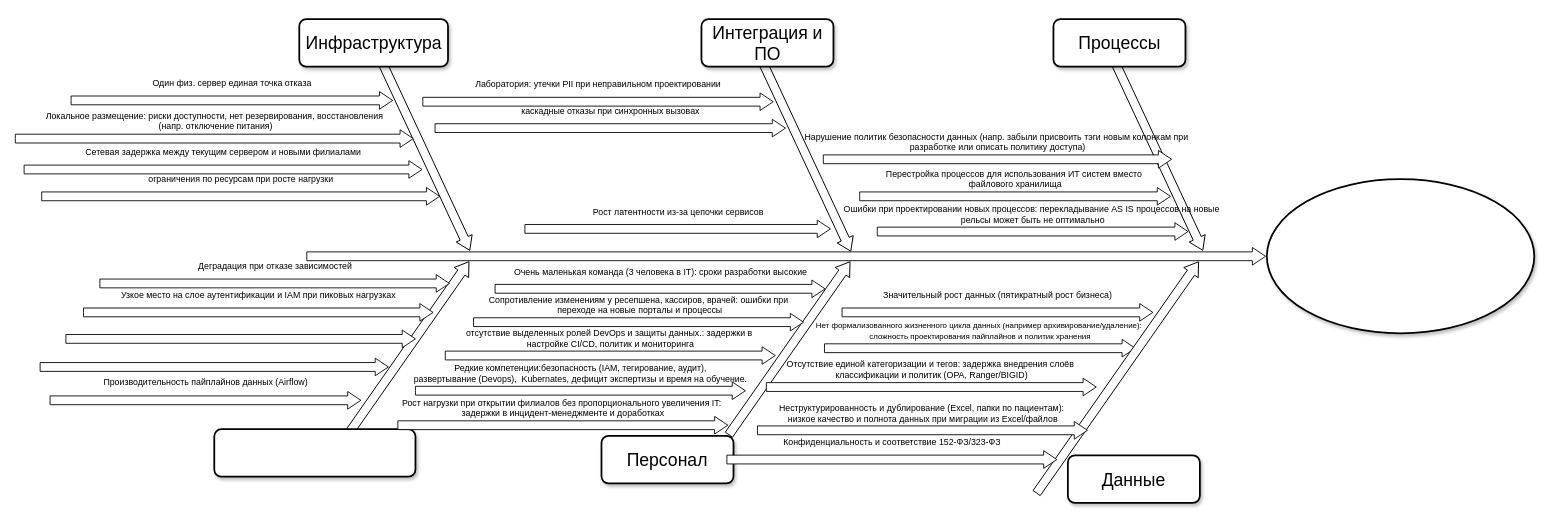
The diagram is 1556 pixels wide and 525 high, and some of its shapes have lost their labels. The shapes that lost their labels are listed below. From the top down, each one's centre as x and y in pixels, then its label:
At point (1401, 257): "Проблема: Снижение работоспособности или срыв миграции на новую архитектуру".
At point (240, 338): "Перегрузка БД (PostgreSQL)".
At point (213, 366): "Перегрузка логирования и SIEM".
At point (315, 453): "Производительность".
